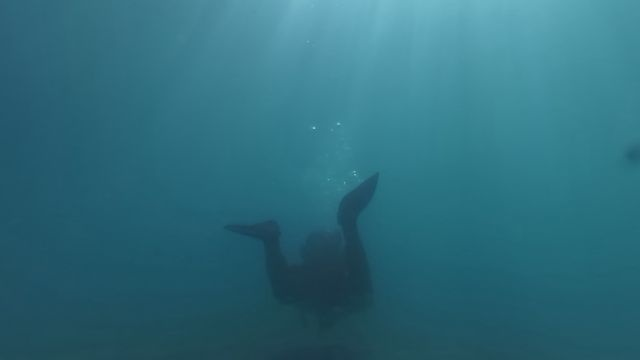Diver: (204, 172, 431, 333)
